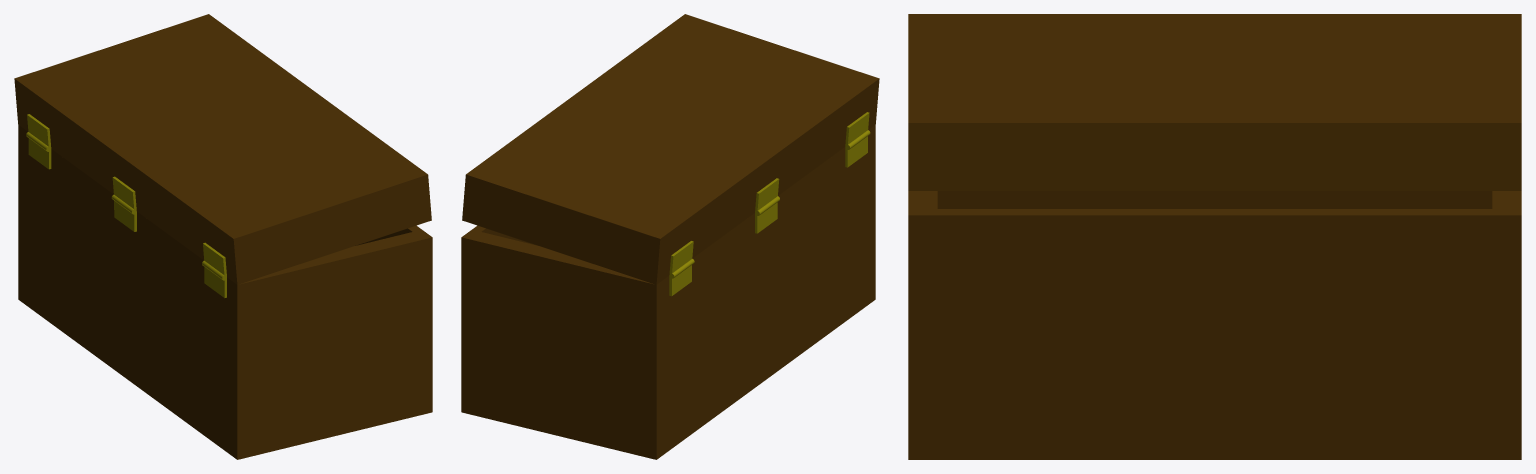
Rendered from ChestLow2.fbx.
3 views of the same model, side by side, from view 1: azimuth 30°, elevation 25°; view 2: azimuth 150°, elevation 25°; view 3: azimuth 270°, elevation 25° (orthographic). The views are drawn at different scales.
Visible parts, largest first — view 1: ChestLid1; view 2: ChestLid1; view 3: ChestLid1.
Part boxes in pixels (left/top/right/bottom): ChestLid1: left=14, top=14, right=432, bottom=459; ChestLid1: left=461, top=14, right=879, bottom=459; ChestLid1: left=908, top=14, right=1521, bottom=459.
Size of the model in its own units: 3.1 by 3.54 by 5.89.
